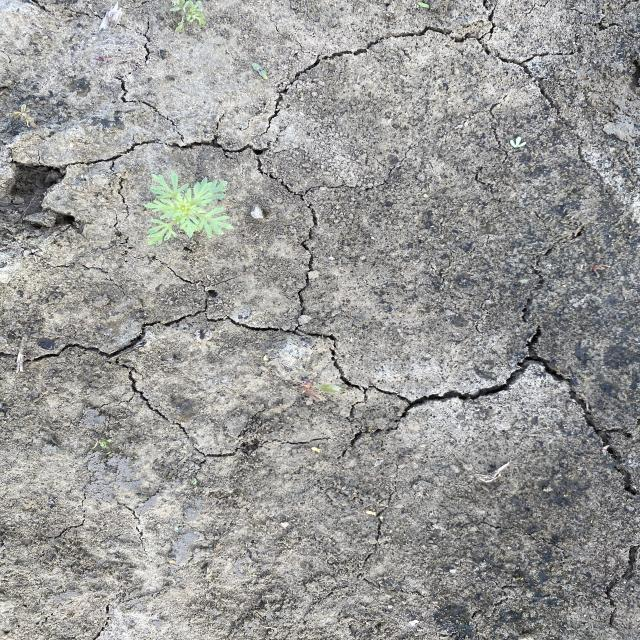Ragweed: (141, 170, 237, 248), (165, 1, 211, 36)
